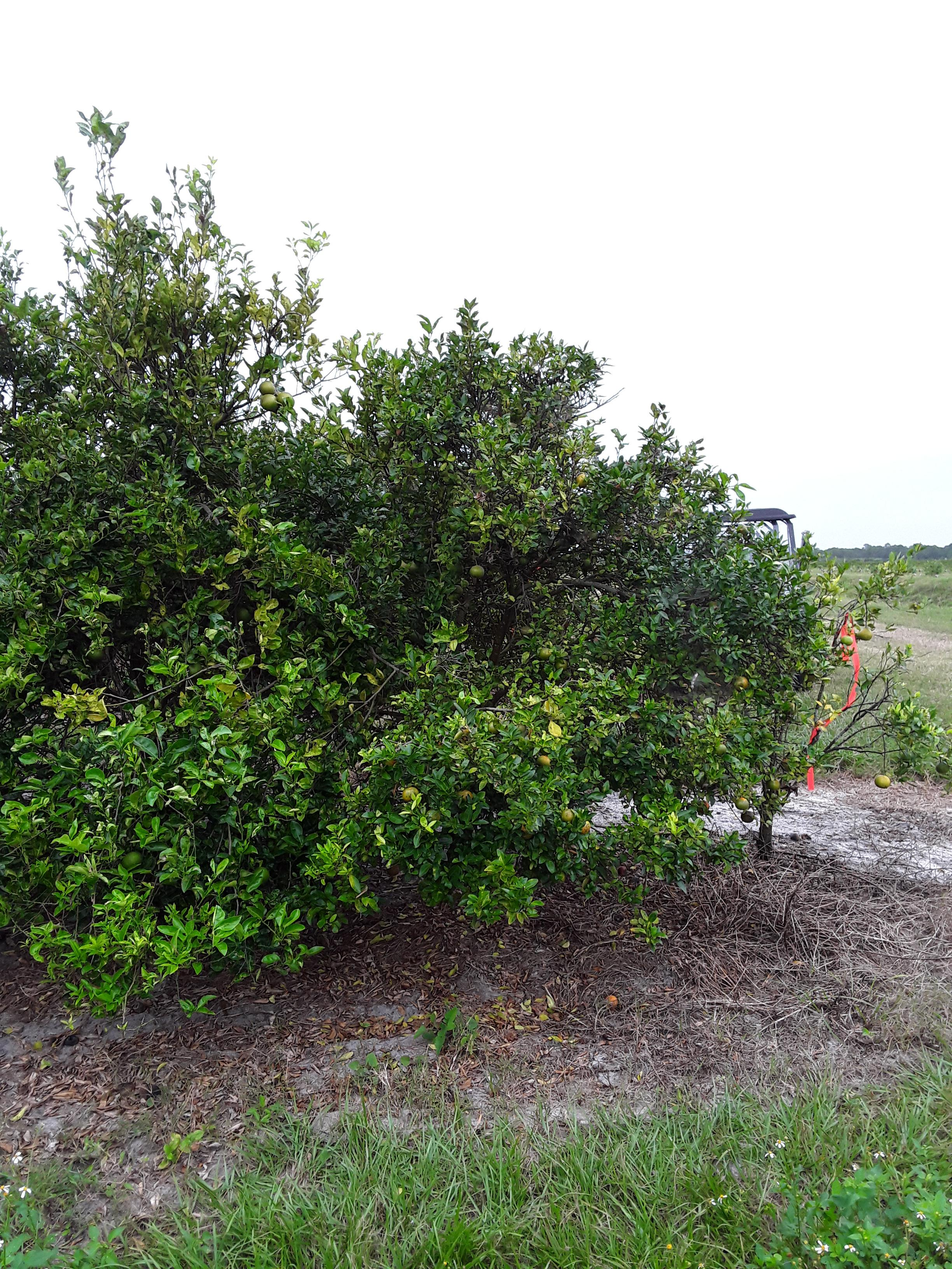fruit_on_ground: (398, 785, 422, 803), (258, 394, 280, 413), (276, 390, 297, 409), (534, 753, 552, 771), (455, 787, 474, 804), (559, 805, 576, 823), (733, 675, 750, 692), (258, 380, 277, 395), (468, 564, 486, 579), (577, 820, 593, 836), (875, 774, 891, 789), (554, 657, 570, 672), (857, 627, 874, 641), (735, 797, 751, 810), (714, 743, 728, 757), (575, 474, 590, 487), (783, 703, 799, 715), (936, 762, 950, 775), (768, 777, 781, 791), (740, 811, 755, 823), (540, 647, 553, 660), (842, 635, 854, 646)
